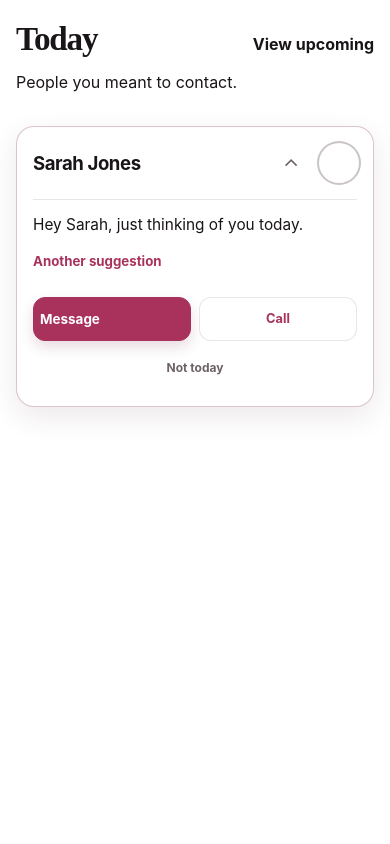
Test case: V1-10 Today experience › treats an email-only person as missing a WhatsApp number
What coordinates should you click on to do the following:
click the button "Message"
I would click on:
 (112, 319)
Its box is [33,297,191,341].
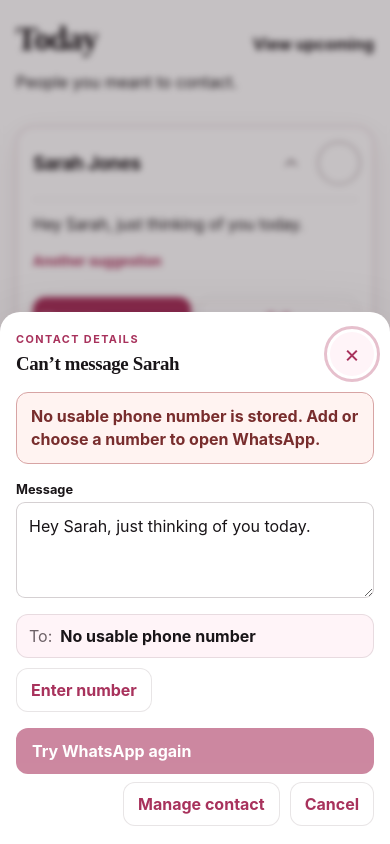
Now the message shows "No usable phone number is stored", box [31,406,358,449]
Now the text "No usable phone number" is shown, box [60,626,256,646]
Now the button "Enter number" is shown, box [16,668,152,712]
